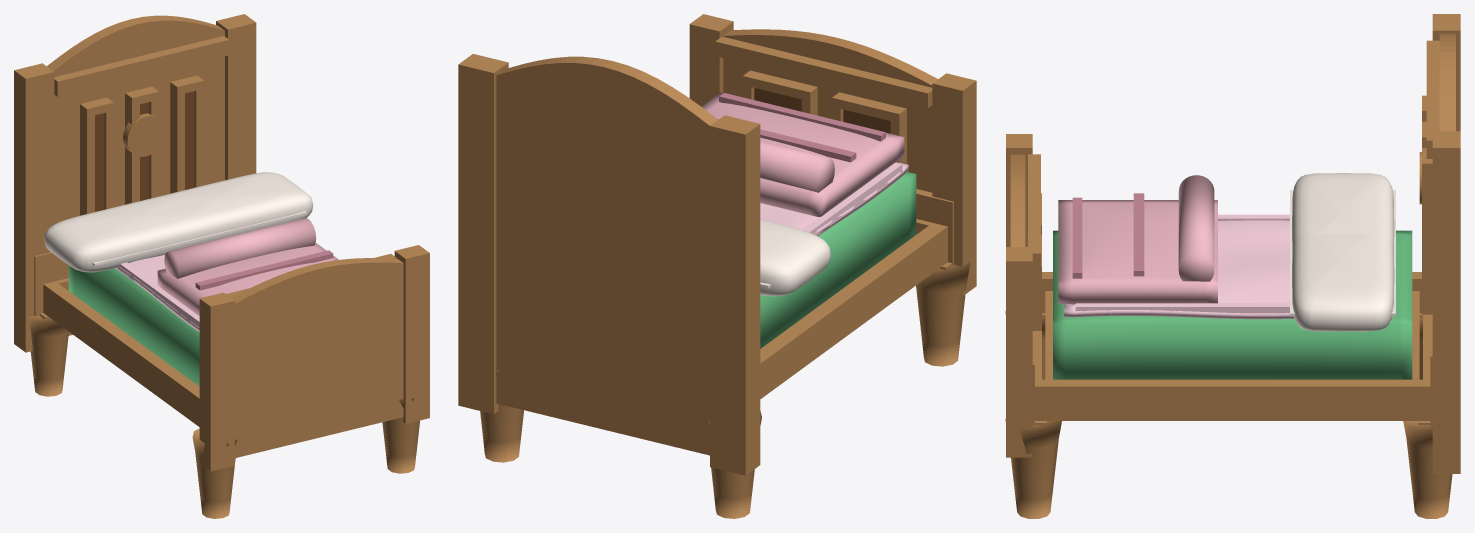
3 renders of one model, left to right at view 1: azimuth 30°, elevation 25°; view 2: azimuth 150°, elevation 25°; view 3: azimuth 270°, elevation 25°, orthographic. The views are drawn at different scales.
Visible parts, largest first — view 1: decorative_headboard, decorative_footboard, pillow, folded_comforter, green_mattress, wooden_bed_frame_base, tapered_leg, light_pink_blanket; view 2: decorative_headboard, decorative_footboard, folded_comforter, wooden_bed_frame_base, green_mattress, tapered_leg, pillow, light_pink_blanket; view 3: green_mattress, wooden_bed_frame_base, folded_comforter, pillow, decorative_headboard, decorative_footboard, light_pink_blanket, tapered_leg.
Boxes of the visible parts, x1,y1,x2,y2 form: decorative_headboard: (14, 14, 256, 352); decorative_footboard: (199, 245, 429, 471); pillow: (44, 172, 313, 272); folded_comforter: (157, 218, 338, 315); green_mattress: (68, 265, 199, 386); wooden_bed_frame_base: (40, 278, 199, 426); tapered_leg: (28, 315, 419, 518); light_pink_blanket: (115, 255, 199, 331); decorative_headboard: (458, 54, 760, 475); decorative_footboard: (689, 14, 976, 296); folded_comforter: (701, 92, 904, 216); wooden_bed_frame_base: (760, 219, 952, 398); green_mattress: (760, 172, 916, 348); tapered_leg: (480, 262, 969, 518); pillow: (760, 219, 830, 296); light_pink_blanket: (760, 162, 908, 235); green_mattress: (1053, 230, 1412, 379); wooden_bed_frame_base: (1035, 272, 1430, 424); folded_comforter: (1058, 175, 1217, 303); pillow: (1290, 173, 1395, 331); decorative_headboard: (1419, 14, 1460, 473); decorative_footboard: (1006, 134, 1041, 457); light_pink_blanket: (1064, 214, 1294, 319); tapered_leg: (1005, 311, 1452, 518).
Bounding box in the file's own units: 2.79 × 3.77 × 3.83.
